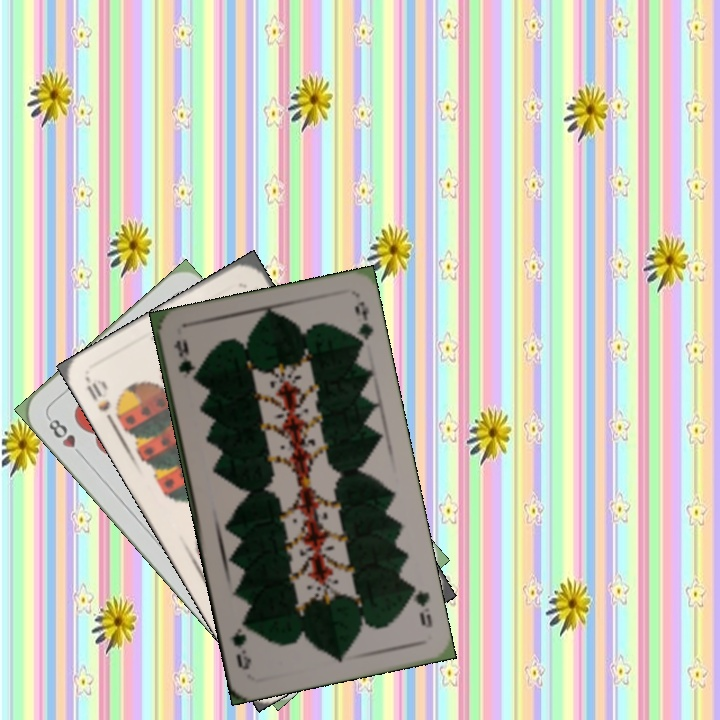G9: (404, 580, 435, 631), (169, 335, 196, 377)
H8: (43, 412, 87, 461)
S10: (82, 374, 124, 430)
